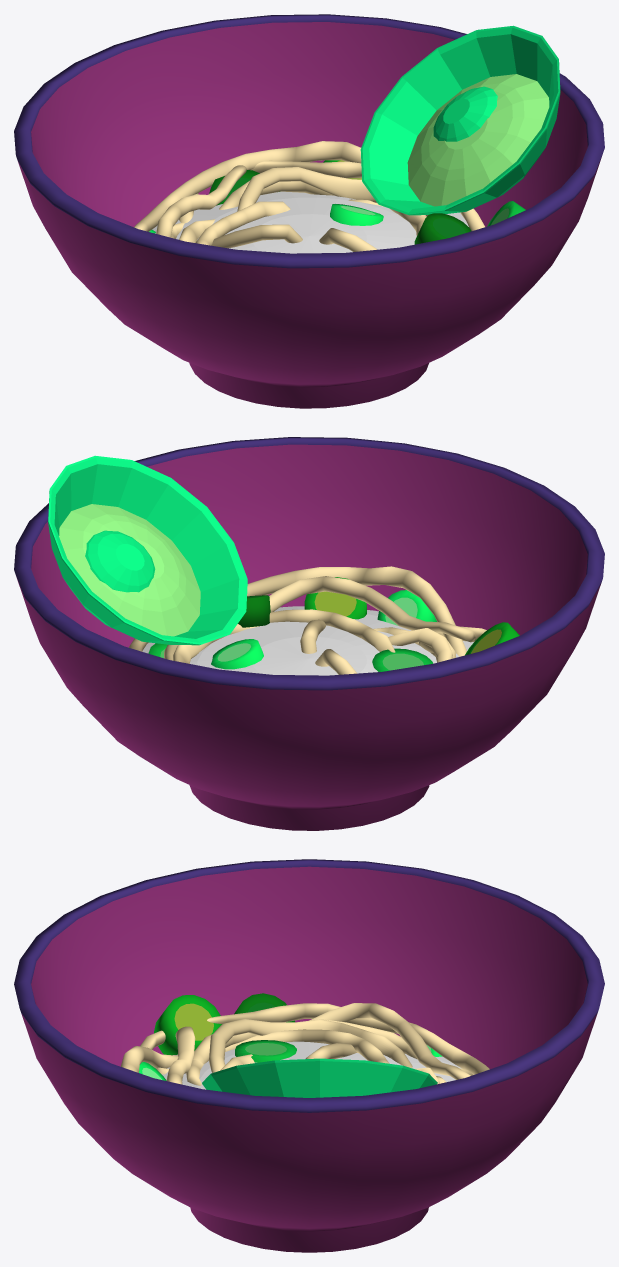
The model's file is unmixed_bamihap_model.fbx.
3 renders of one model, top to bottom at view 1: azimuth 30°, elevation 25°; view 2: azimuth 150°, elevation 25°; view 3: azimuth 270°, elevation 25°, orthographic.
Visible parts, largest first — view 1: Mixing_Bowl_Bami, Unmixed Egg Cracked, Unmixed Noodles Cooked, Unmixed Flour, Unmixed Leek Cooked; view 2: Mixing_Bowl_Bami, Unmixed Egg Cracked, Unmixed Noodles Cooked, Unmixed Flour, Unmixed Leek Cooked, Unmixed Carrot Cooked; view 3: Mixing_Bowl_Bami, Unmixed Noodles Cooked, Unmixed Egg Cracked, Unmixed Carrot Cooked, Unmixed Leek Cooked, Unmixed Flour.
Boxes of the visible parts, left/top/right/bottom form: Mixing_Bowl_Bami: left=14, top=14, right=604, bottom=408; Unmixed Egg Cracked: left=360, top=25, right=560, bottom=215; Unmixed Noodles Cooked: left=134, top=141, right=484, bottom=251; Unmixed Flour: left=152, top=191, right=468, bottom=253; Unmixed Leek Cooked: left=149, top=170, right=525, bottom=244; Mixing_Bowl_Bami: left=14, top=437, right=604, bottom=830; Unmixed Egg Cracked: left=48, top=455, right=247, bottom=645; Unmixed Noodles Cooked: left=128, top=566, right=486, bottom=674; Unmixed Flour: left=142, top=606, right=473, bottom=675; Unmixed Leek Cooked: left=148, top=590, right=436, bottom=671; Unmixed Carrot Cooked: left=304, top=577, right=519, bottom=655; Mixing_Bowl_Bami: left=14, top=859, right=604, bottom=1252; Unmixed Noodles Cooked: left=120, top=1003, right=489, bottom=1085; Unmixed Egg Cracked: left=202, top=1058, right=437, bottom=1097; Unmixed Carrot Cooked: left=154, top=995, right=221, bottom=1055; Unmixed Leek Cooked: left=139, top=993, right=442, bottom=1080; Unmixed Flour: left=161, top=1041, right=461, bottom=1089.
Bounding box in the file's own units: 48.76 × 48.76 × 24.17.
